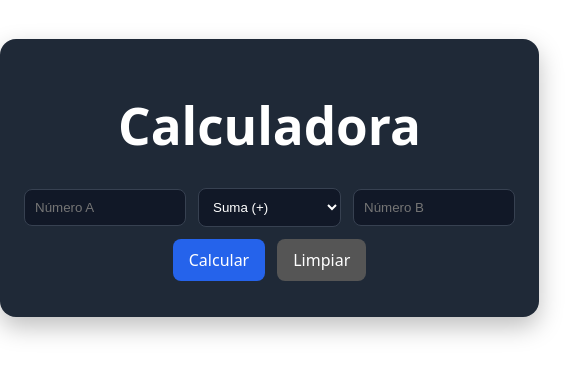
error al dividir por cero
Type "10" into the field named "primer-numero" at (105, 208), box top-left (24, 189), bottom-right (186, 226)
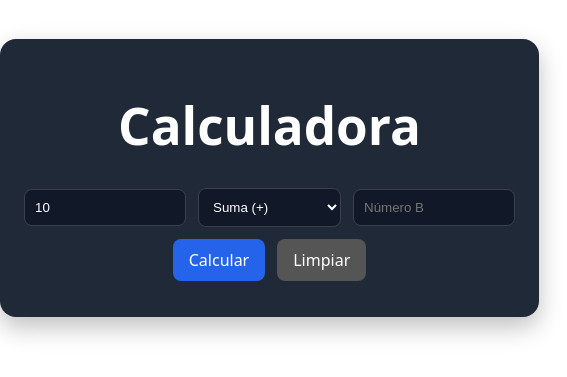
Type "0" into the field named "segundo-numero" at (434, 208), box top-left (353, 189), bottom-right (515, 226)
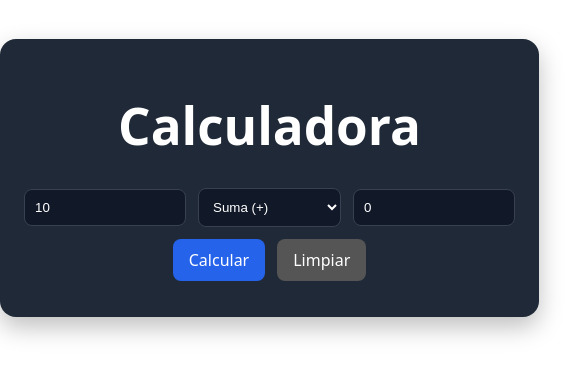
Select "División (÷)" in the dropdown named "operacion" at (270, 208), box top-left (198, 188), bottom-right (341, 227)
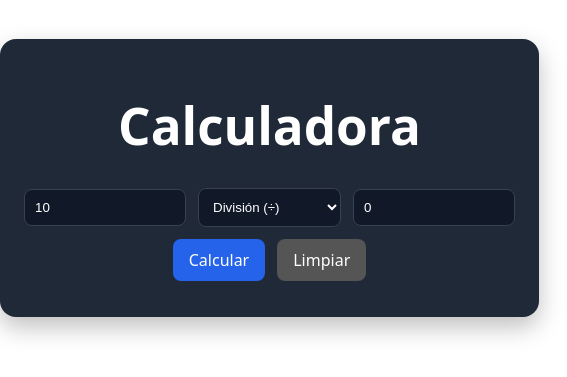
Click the button "Calcular" at (219, 260), box top-left (173, 239), bottom-right (265, 281)
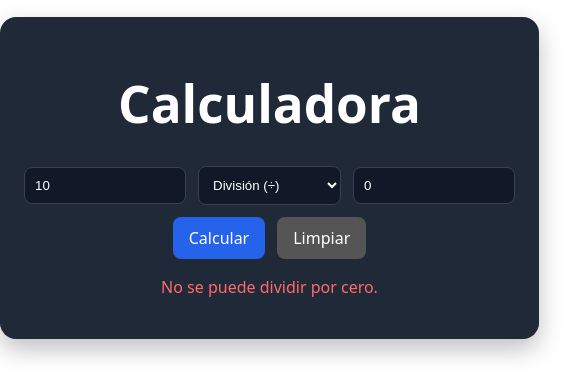
Check: the message shows "No se puede dividir por cero", box top-left (161, 276), bottom-right (378, 298)
